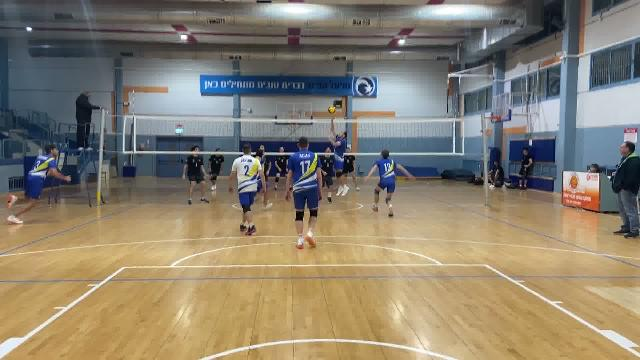ball: (328, 104, 338, 116)
